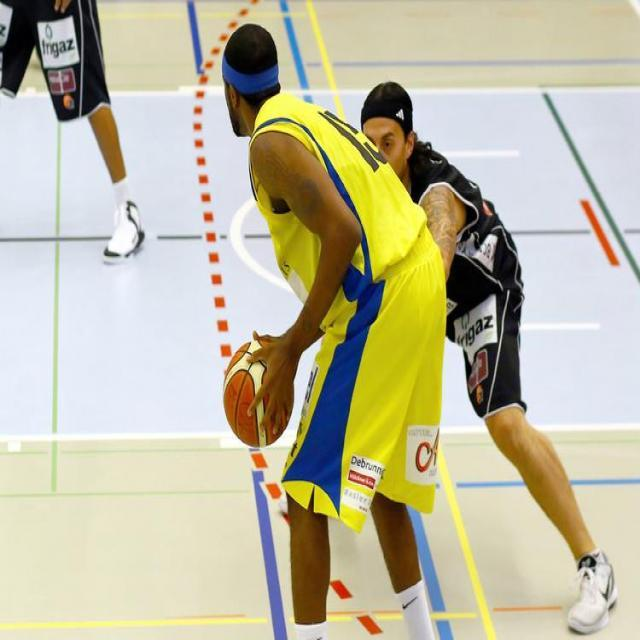rim: (225, 339, 294, 448)
